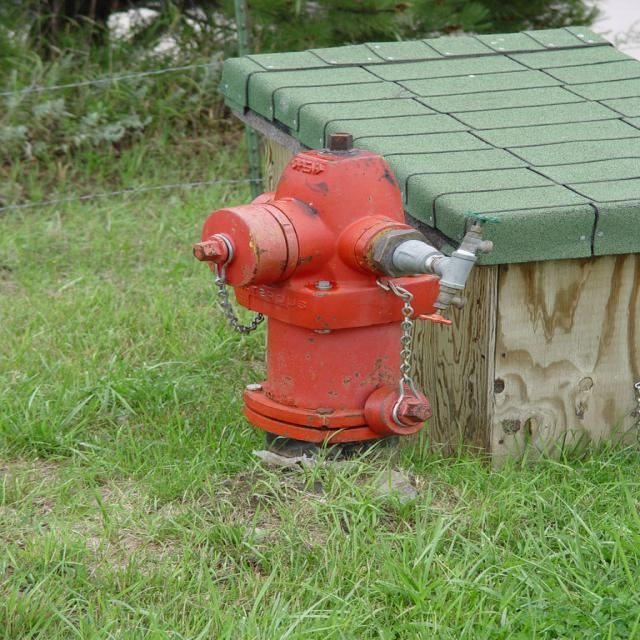fire_hydrant: (196, 132, 490, 456)
